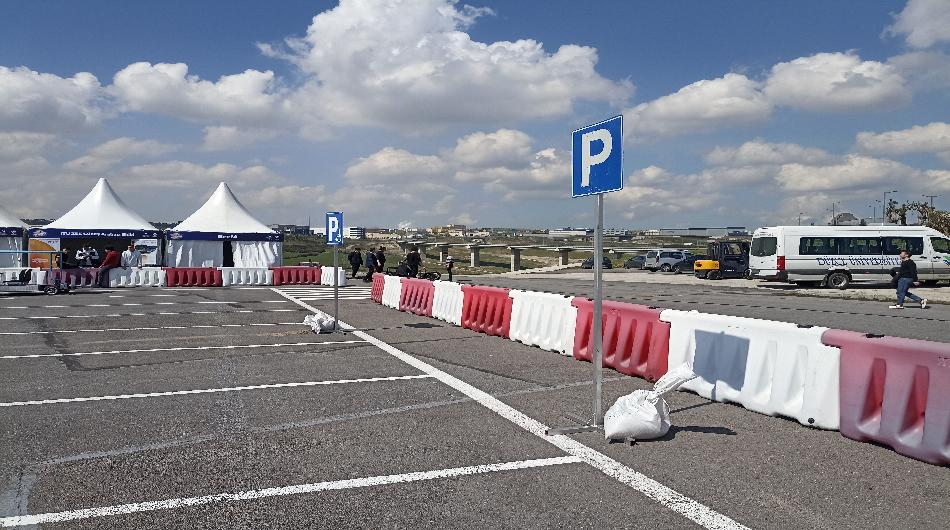engelli_park: (324, 208, 343, 247)
park: (570, 115, 632, 199)
